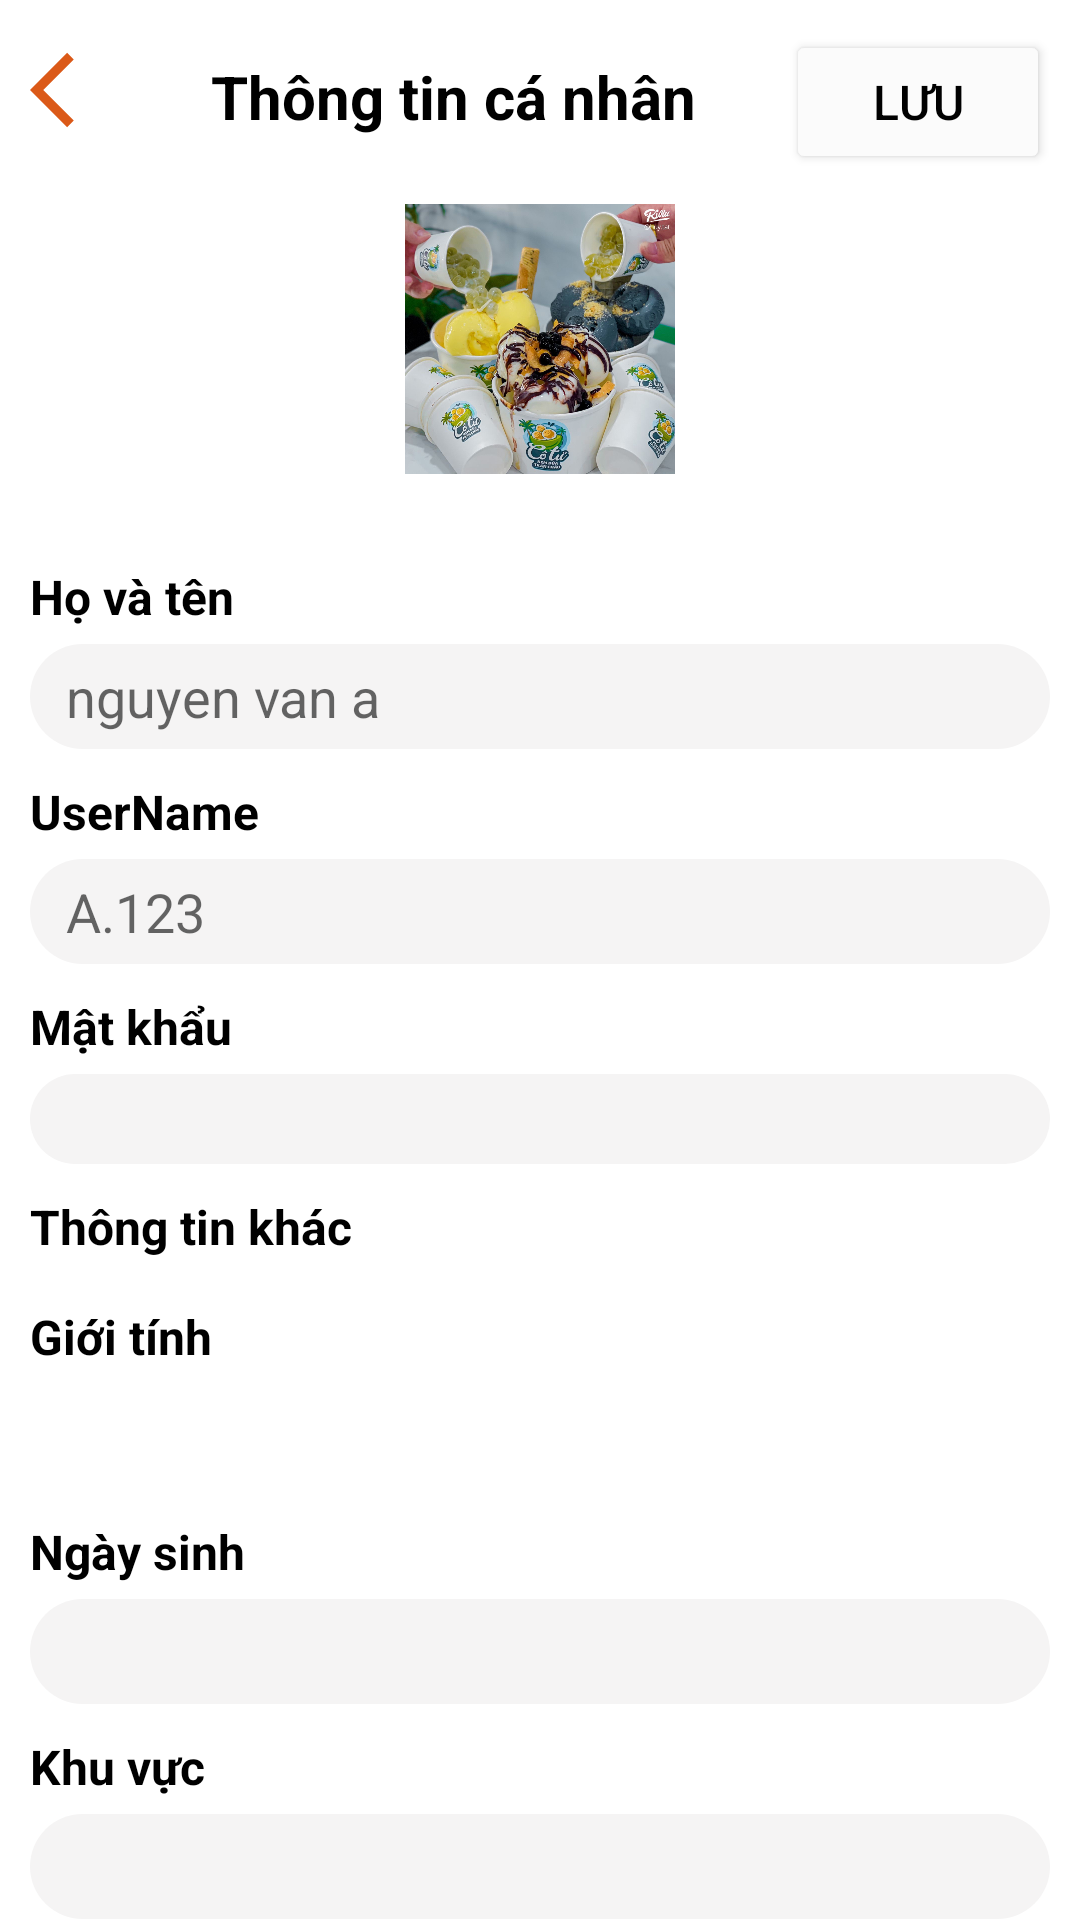

Where to tap for icons on this 1080 x 1920 app screen, as point (x, y):
arrow back: point (52, 90)
